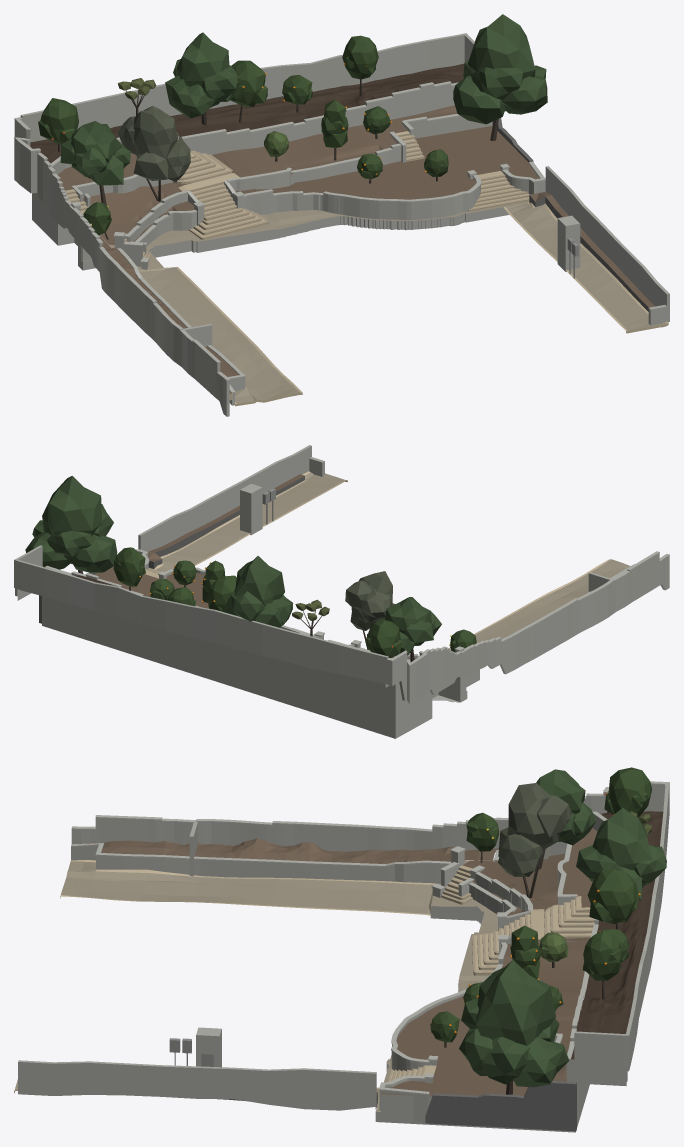
File: reconstruction-ff0b6ee52852.glb
3 renders of one model, top to bottom at view 1: azimuth 30°, elevation 25°; view 2: azimuth 150°, elevation 25°; view 3: azimuth 270°, elevation 25°, orthographic. The views are drawn at different scales.
Visible parts, largest first — view 1: ground-terraces, wall-west-boundary-rear, wall-rear-boundary, planting-tree-14, ground-side-west, wall-wa, ground-side-east, planting-tree-03, wall-we, planting-tree-01, wall-east-side-boundary, wall-wb (+23 smaller); view 2: ground-terraces, wall-rear-boundary, wall-west-boundary-rear, planting-tree-14, wall-east-side-boundary, ground-side-east, planting-tree-03, ground-side-west, planting-tree-01, planting-tree-02, planter-fill-east-side, coping-west-boundary-rear (+7 smaller); view 3: ground-terraces, ground-side-west, wall-east-side-boundary, planting-tree-14, wall-west-boundary-rear, wall-west-side-retaining, slot-filler-east, planting-tree-01, planting-tree-03, wall-rear-boundary, wall-rear-boundary-return-east, planting-tree-04 (+19 smaller).
Part boxes in pixels (<box>): ground-terraces: <box>30,63,538,270</box>; wall-west-boundary-rear: <box>14,119,229,416</box>; wall-rear-boundary: <box>20,33,467,142</box>; planting-tree-14: <box>453,14,547,140</box>; ground-side-west: <box>99,235,302,406</box>; wall-wa: <box>81,164,545,260</box>; ground-side-east: <box>503,202,668,333</box>; planting-tree-03: <box>165,32,238,125</box>; wall-we: <box>183,84,454,154</box>; planting-tree-01: <box>117,106,190,201</box>; wall-east-side-boundary: <box>545,166,669,325</box>; wall-wb: <box>130,116,492,241</box>; ground-terraces: <box>17,566,479,738</box>; wall-rear-boundary: <box>14,559,388,683</box>; wall-west-boundary-rear: <box>387,553,669,703</box>; planting-tree-14: <box>25,476,117,573</box>; wall-east-side-boundary: <box>138,445,324,551</box>; ground-side-east: <box>154,471,347,571</box>; planting-tree-03: <box>224,556,293,627</box>; ground-side-west: <box>449,559,630,650</box>; planting-tree-01: <box>345,571,395,649</box>; planting-tree-02: <box>383,597,441,661</box>; planter-fill-east-side: <box>148,474,304,568</box>; coping-west-boundary-rear: <box>387,551,669,666</box>; ground-terraces: <box>375,811,663,1132</box>; ground-side-west: <box>60,838,495,915</box>; wall-east-side-boundary: <box>18,1060,376,1110</box>; planting-tree-14: <box>459,960,569,1094</box>; wall-west-boundary-rear: <box>71,784,669,852</box>; wall-west-side-retaining: <box>71,845,448,883</box>; slot-filler-east: <box>425,1081,576,1131</box>; planting-tree-01: <box>498,783,571,898</box>; planting-tree-03: <box>576,808,666,899</box>; wall-rear-boundary: <box>625,783,669,1071</box>; wall-rear-boundary-return-east: <box>574,1031,627,1081</box>; planting-tree-04: <box>587,869,640,929</box>.
Size of the model in its own units: 36.52 by 10.78 by 35.19.
